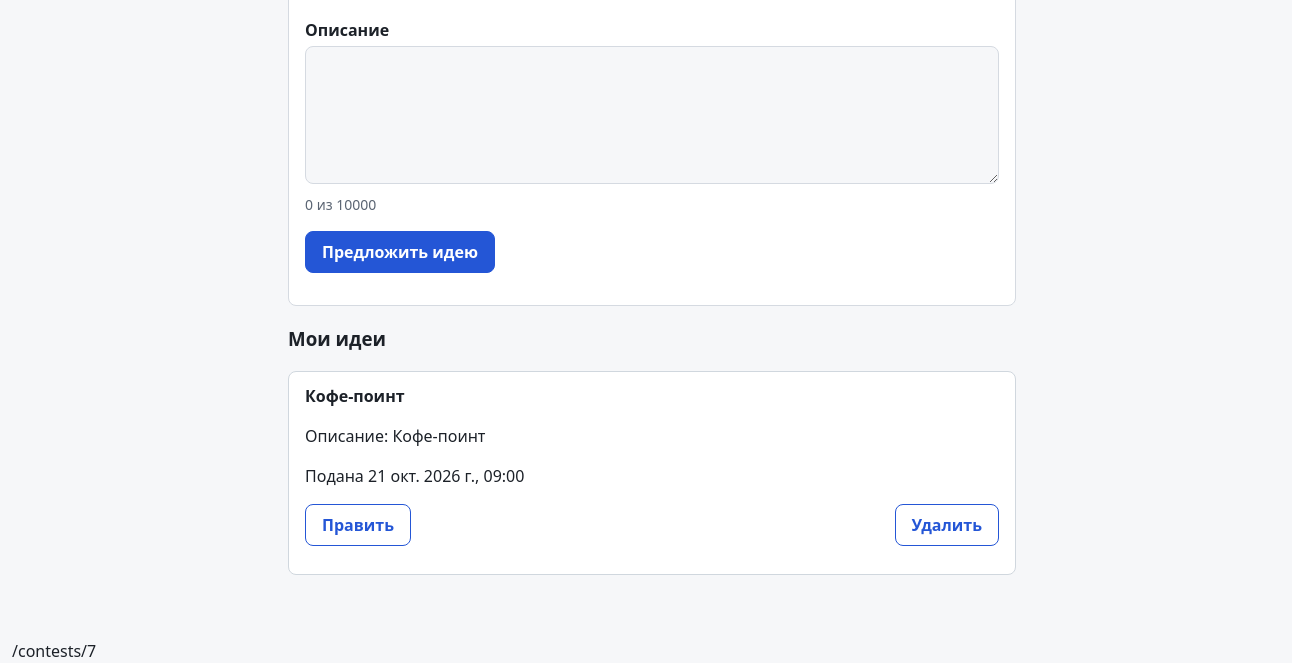
Scenario: страница конкурса: приём идей › удаление своей идеи требует подтверждения
(page scrolled)
Click the button "Удалить".
click(947, 525)  # box [894,504,999,546]
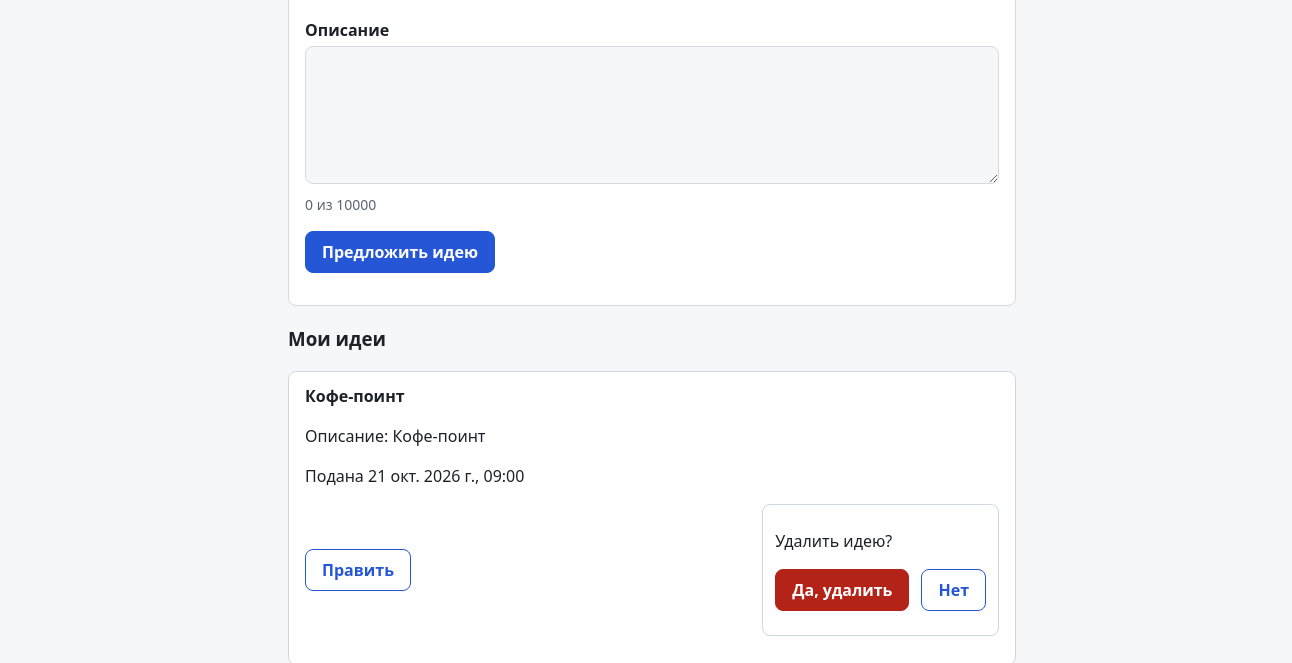
Click the button "Нет".
click(954, 590)  # box [922,569,986,611]
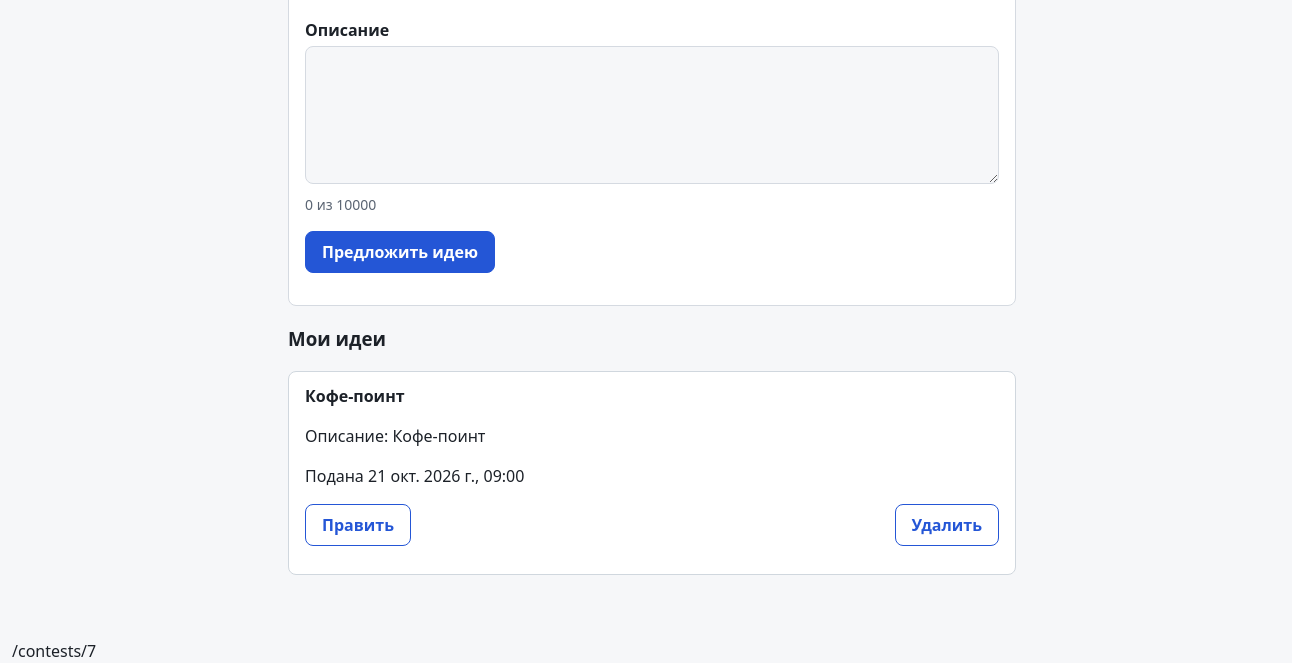
Click the button "Удалить".
click(947, 525)  # box [894,504,999,546]
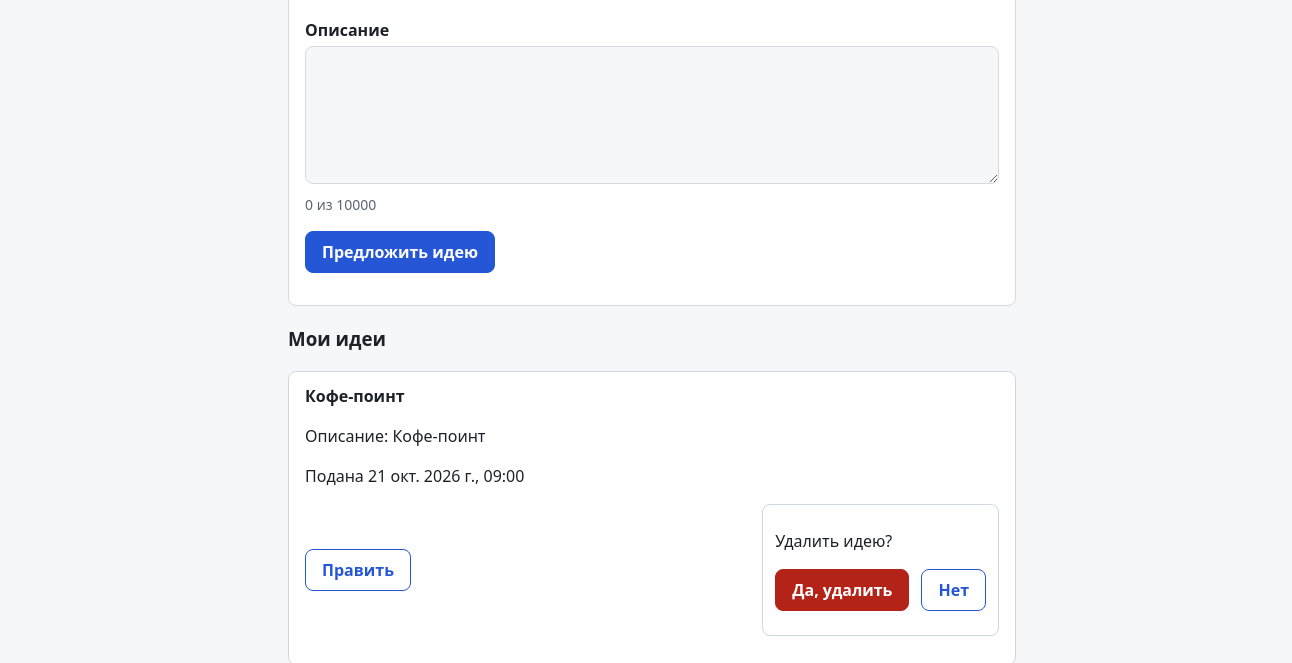
Click the button "Да, удалить".
click(842, 590)  # box [775,569,910,611]
(page scrolled)
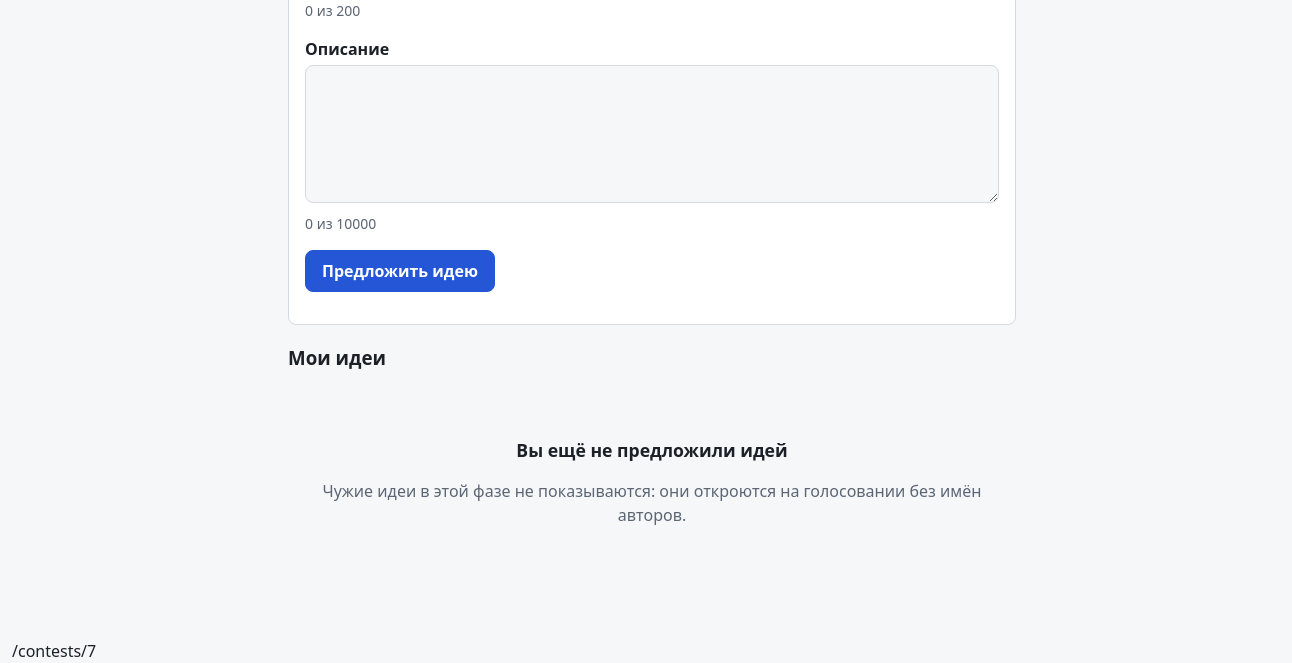
Now the heading "Вы ещё не предложили идей" is shown, box [516,438,788,462]
